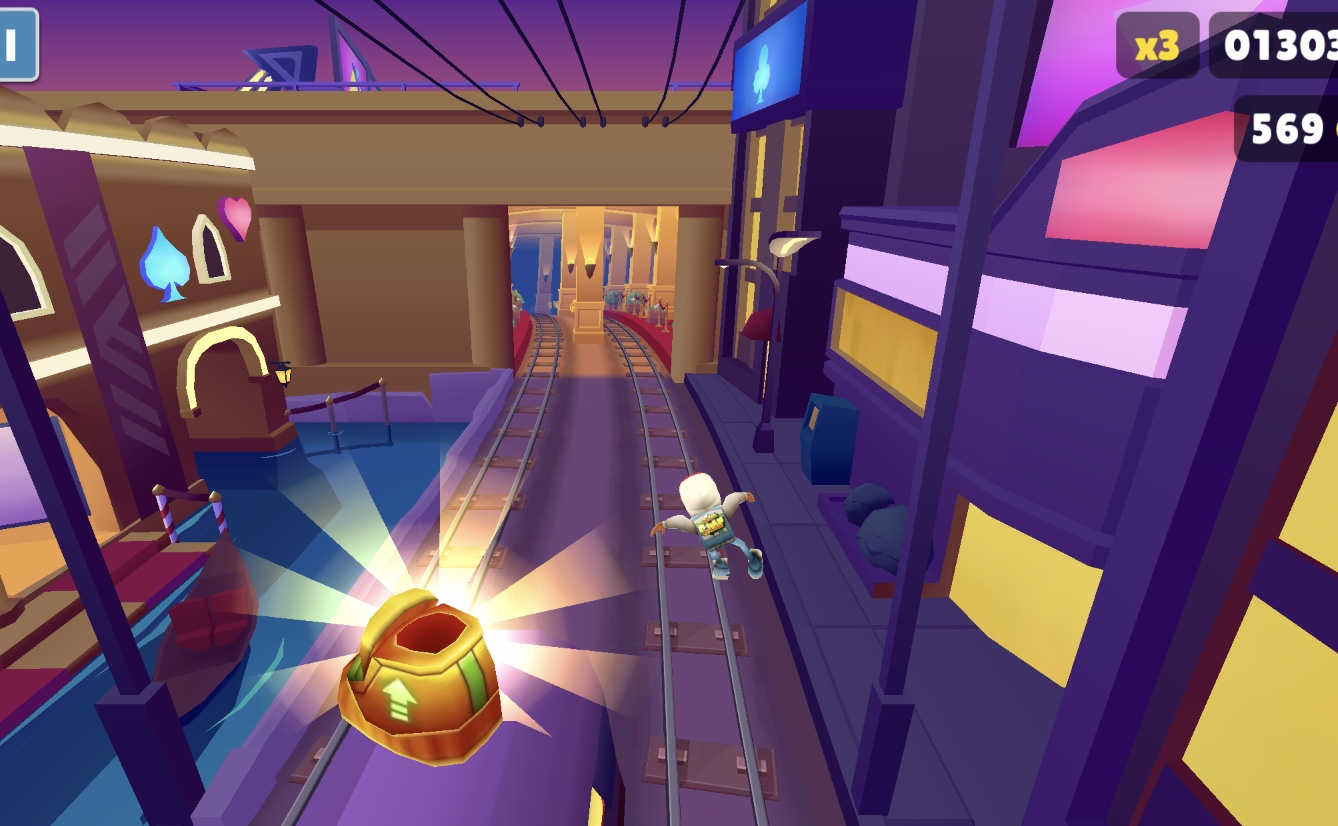pillar: (564, 205, 607, 339)
train: (0, 417, 569, 826)
